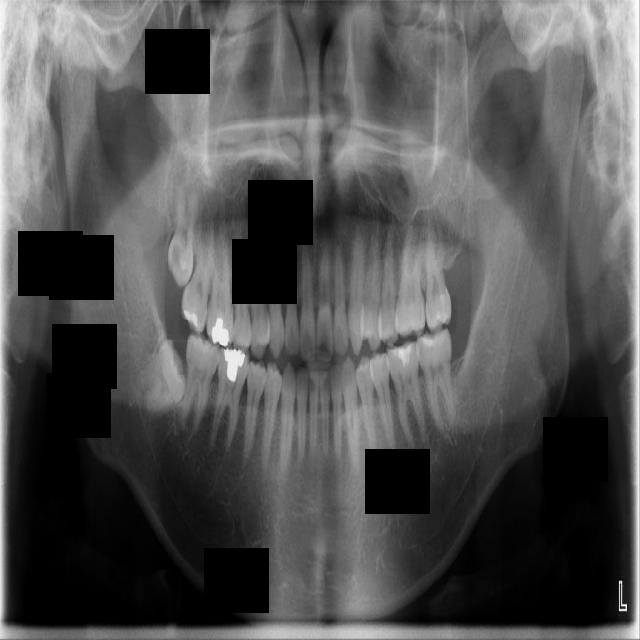3M ESPE Implant: (166, 163, 197, 289)
52: (410, 320, 458, 372), (211, 343, 254, 390), (203, 297, 236, 350), (385, 338, 420, 385), (180, 280, 208, 335), (172, 242, 182, 269)
73: (620, 618, 630, 628)
BioHorizons Implant: (423, 205, 453, 334)
Blue Sky Bio Implant: (414, 320, 459, 439)
Caries: (176, 201, 224, 336)
Implant: (179, 325, 222, 434)
Keystone Dental Implant: (122, 337, 198, 426)
